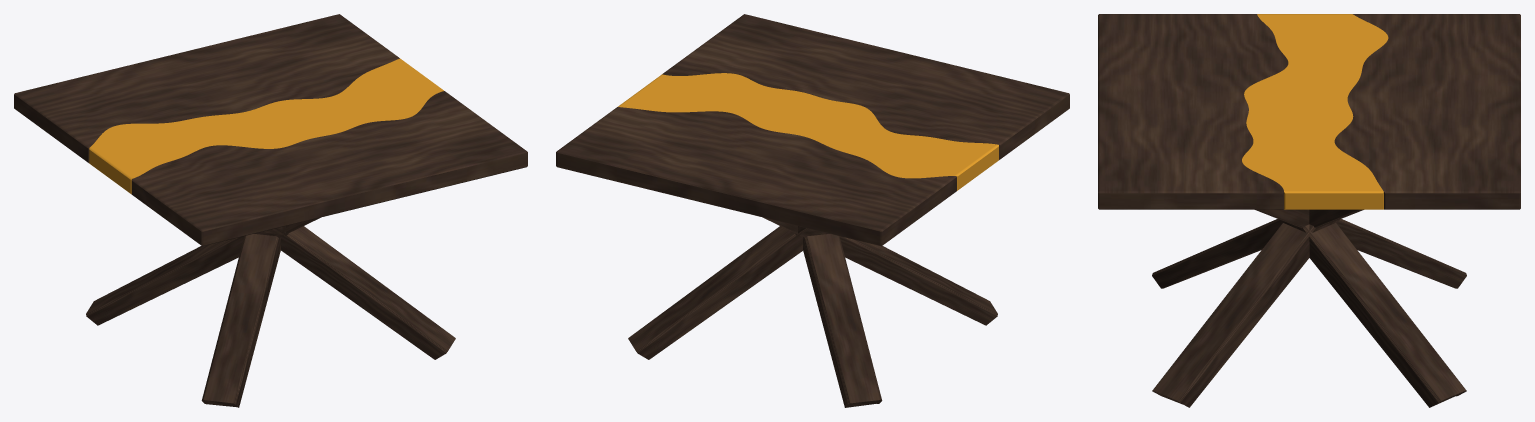
File: square-walnut-epoxy-amber.glb
3 renders of one model, left to right at view 1: azimuth 30°, elevation 25°; view 2: azimuth 150°, elevation 25°; view 3: azimuth 270°, elevation 25°, orthographic. The views are drawn at different scales.
Parts seen in each view (by area): view 1: Wood_Square_EpoxyFar, Wood_Square_EpoxyNear, Base_Square, Resin_Square; view 2: Wood_Square_EpoxyNear, Wood_Square_EpoxyFar, Base_Square, Resin_Square; view 3: Wood_Square_EpoxyFar, Wood_Square_EpoxyNear, Base_Square, Resin_Square.
Part boxes in pixels (x1=…): Wood_Square_EpoxyFar: x1=131, y1=91, x2=527, y2=246; Wood_Square_EpoxyNear: x1=14, y1=14, x2=399, y2=162; Base_Square: x1=86, y1=217, x2=455, y2=407; Resin_Square: x1=89, y1=58, x2=443, y2=194; Wood_Square_EpoxyNear: x1=556, y1=107, x2=956, y2=246; Wood_Square_EpoxyFar: x1=662, y1=14, x2=1069, y2=159; Base_Square: x1=628, y1=217, x2=997, y2=407; Resin_Square: x1=618, y1=73, x2=998, y2=190; Wood_Square_EpoxyFar: x1=1098, y1=14, x2=1288, y2=209; Wood_Square_EpoxyNear: x1=1334, y1=14, x2=1520, y2=209; Base_Square: x1=1152, y1=209, x2=1466, y2=407; Resin_Square: x1=1242, y1=14, x2=1388, y2=209.
Size of the model in its own units: 1.22 by 0.762 by 1.22.
Materials: 3 (2 with a texture image).
